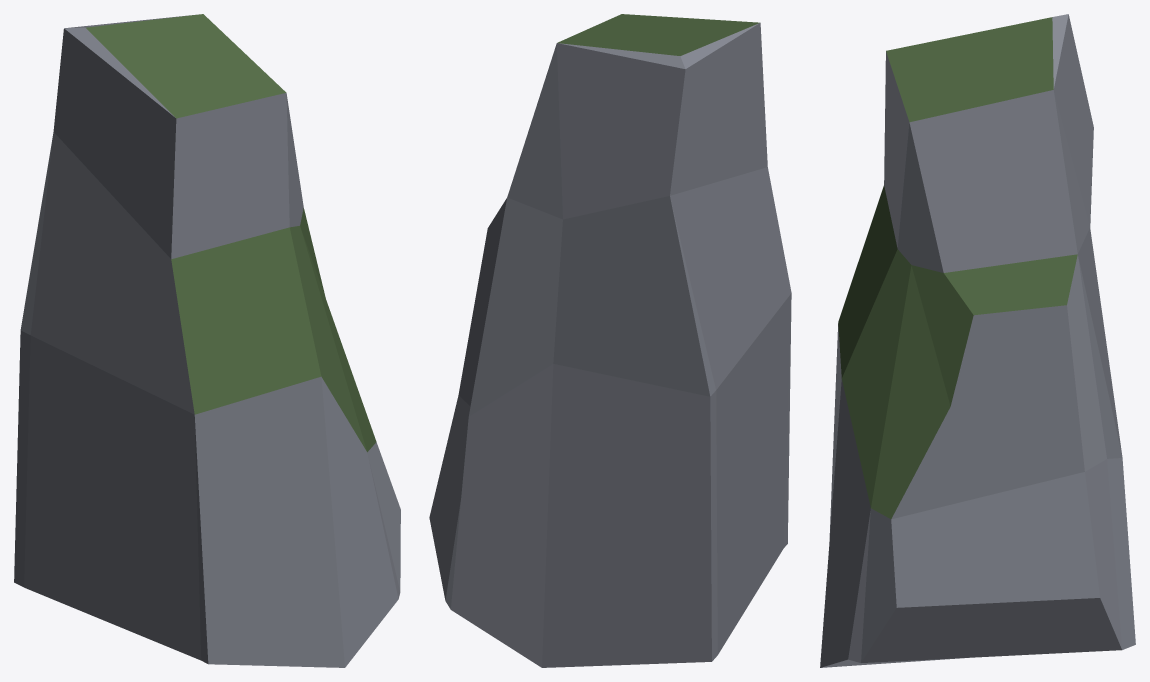
The model's file is Rock Moss 1.glb.
3 views of the same model, side by side, from view 1: azimuth 30°, elevation 25°; view 2: azimuth 150°, elevation 25°; view 3: azimuth 270°, elevation 25° (orthographic). The views are drawn at different scales.
Parts seen in each view (by area): view 1: Rock_Moss_1; view 2: Rock_Moss_1; view 3: Rock_Moss_1.
Boxes of the visible parts, left/top/right/bottom form: Rock_Moss_1: left=14, top=14, right=400, bottom=667; Rock_Moss_1: left=429, top=14, right=791, bottom=667; Rock_Moss_1: left=820, top=14, right=1135, bottom=667.
Size of the model in its own units: 0.4853 by 0.95 by 0.4667.
